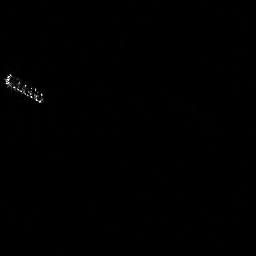ship: (2, 69, 48, 108)
